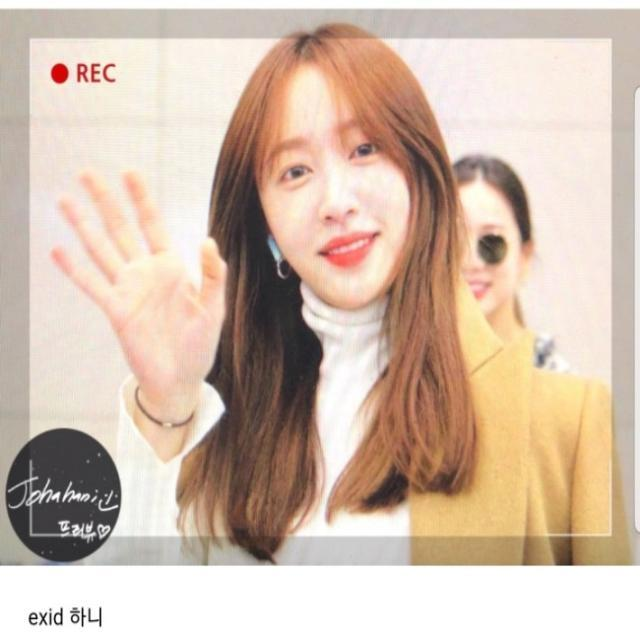earphone: (257, 208, 300, 294)
